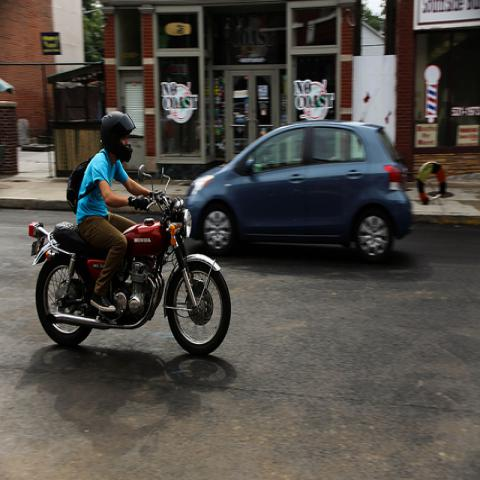car: (187, 119, 413, 258)
motorcycle: (29, 189, 230, 355)
